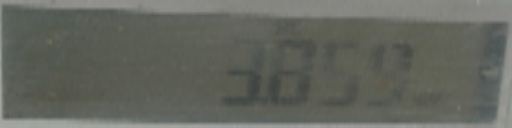3: (223, 38, 262, 111)
5: (318, 38, 365, 111)
8: (272, 35, 309, 108)
9: (364, 38, 415, 109)
d: (258, 95, 275, 112)
